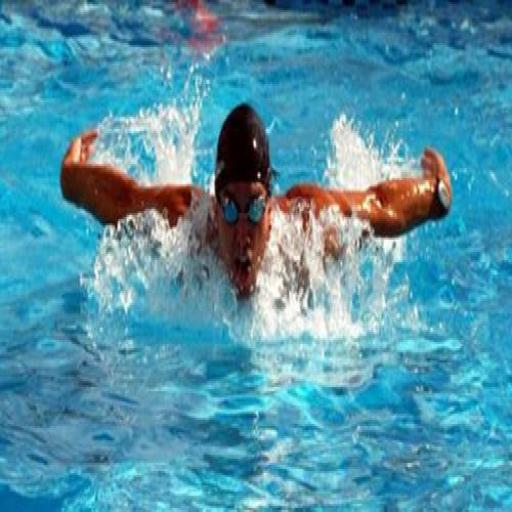swimming: (57, 100, 454, 324)
